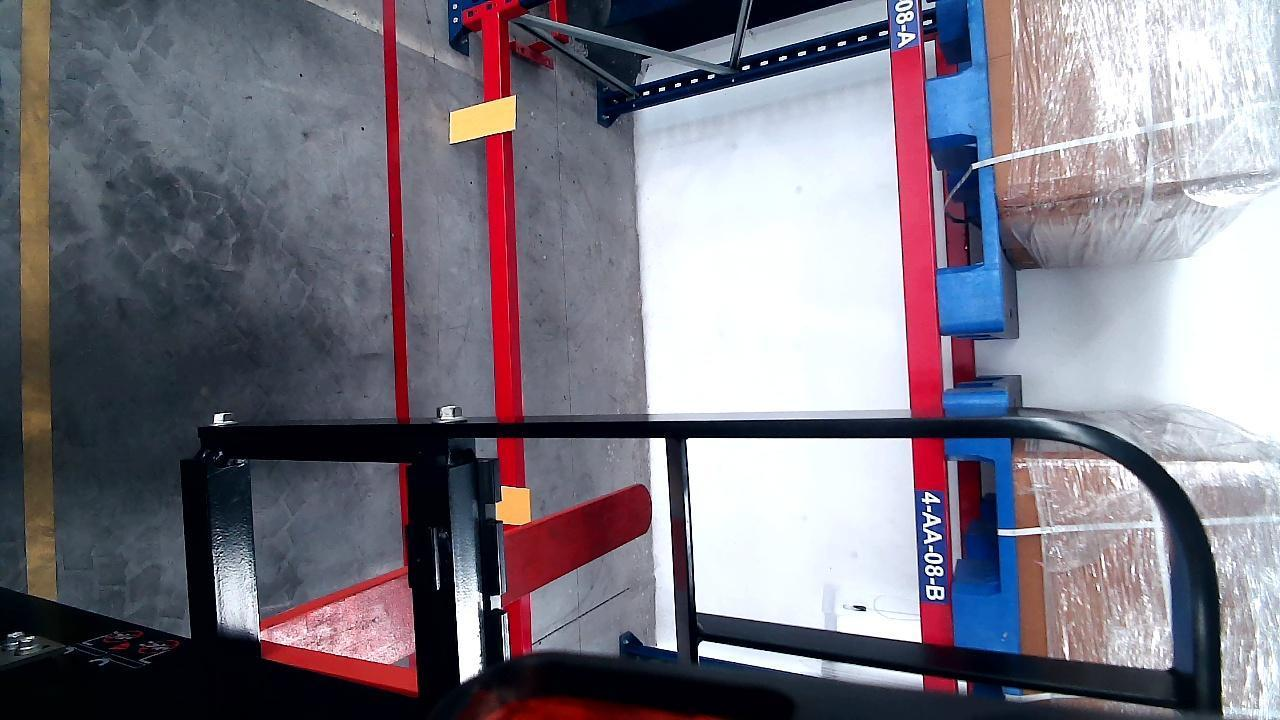h_rack: (886, 3, 945, 683), (479, 7, 521, 478)
orange_strip: (449, 96, 517, 142), (497, 487, 532, 524)
red_line: (382, 0, 412, 420)
small_pallet: (927, 5, 1006, 331), (949, 418, 1018, 645)
yellow_line: (18, 2, 55, 602)
